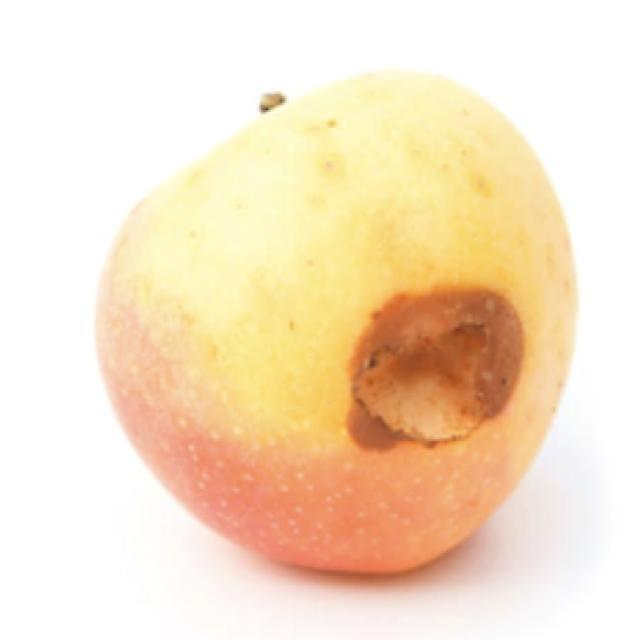Rotten: (92, 64, 580, 584)
